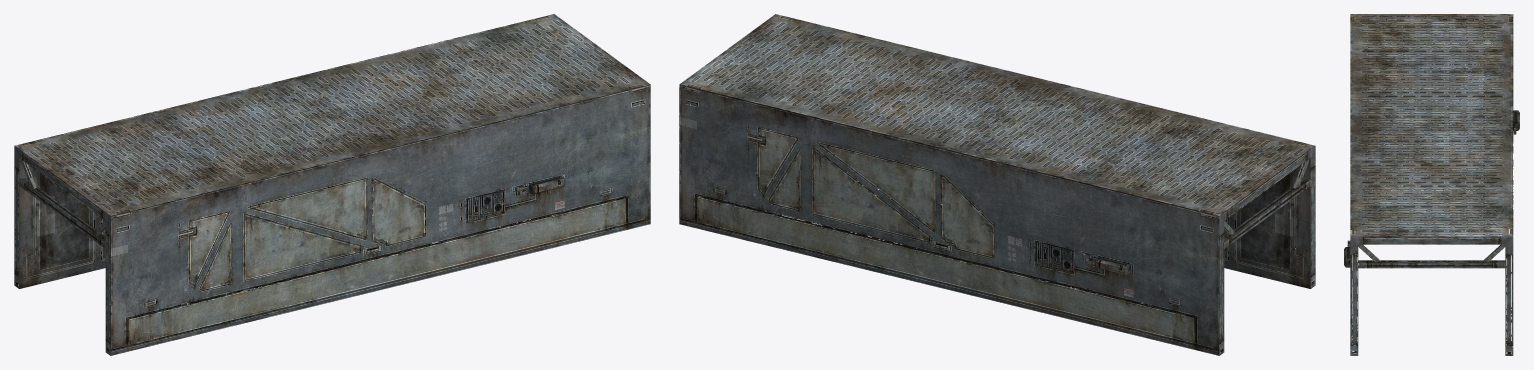
Rendered from bench_tv_community_room.dae.
The picture shows the model from 3 angles, left to right: view 1: azimuth 30°, elevation 25°; view 2: azimuth 150°, elevation 25°; view 3: azimuth 270°, elevation 25°; orthographic projection. The views are drawn at different scales.
Parts seen in each view (by area): view 1: Mesh; view 2: Mesh; view 3: Mesh.
Boxes of the visible parts, x1,y1,x2,y2 form: Mesh: (14, 14, 650, 355); Mesh: (679, 14, 1315, 355); Mesh: (1344, 14, 1519, 355).
Bounding box in the file's own units: 2.45 × 0.6075 × 0.8155.
